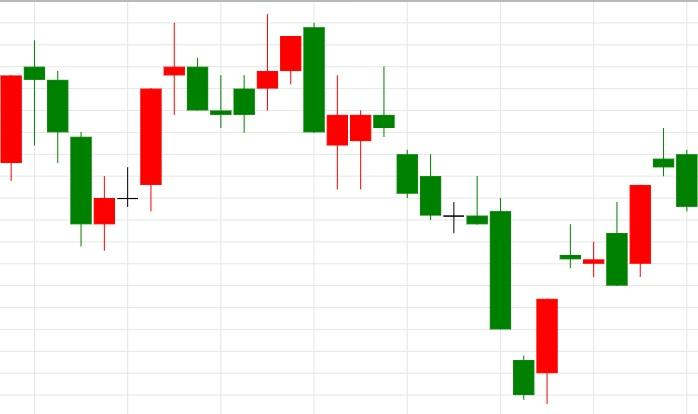bearish_engulfing_fall: (209, 13, 326, 133)
